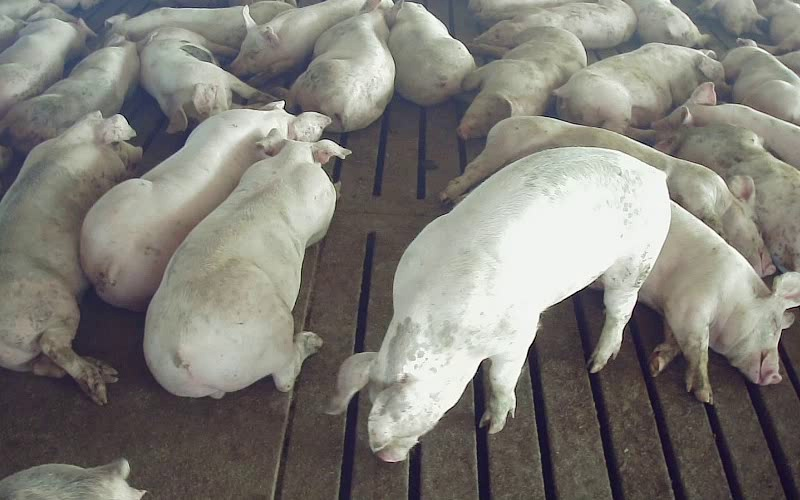pig: (145, 129, 348, 397), (441, 116, 774, 276), (657, 125, 799, 271), (0, 35, 139, 152), (554, 43, 723, 138), (277, 3, 394, 131), (457, 27, 586, 138), (139, 27, 274, 133), (654, 82, 799, 169), (0, 18, 92, 118), (472, 0, 636, 55), (388, 2, 475, 105), (722, 39, 799, 125)
